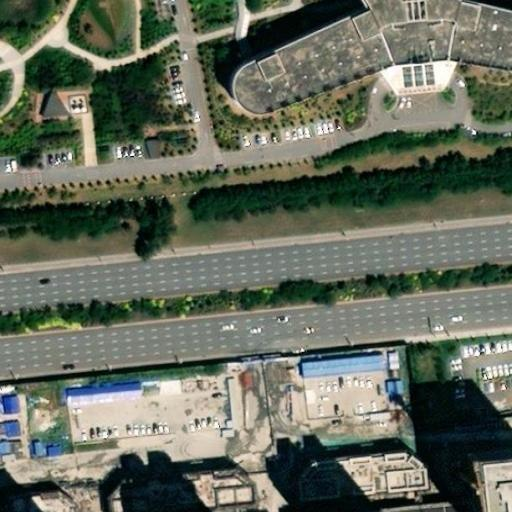building: (233, 0, 512, 117), (106, 475, 207, 512), (296, 350, 384, 379), (63, 376, 143, 403), (10, 488, 64, 512), (38, 86, 68, 118), (337, 496, 387, 512), (142, 132, 162, 158), (383, 374, 404, 395), (0, 391, 18, 413), (0, 417, 20, 436), (0, 434, 17, 453)
